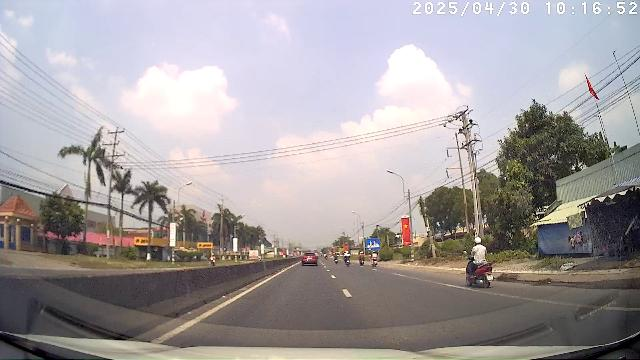421-ket-thuc-khu-dong-dan-cu: (366, 238, 380, 249)
